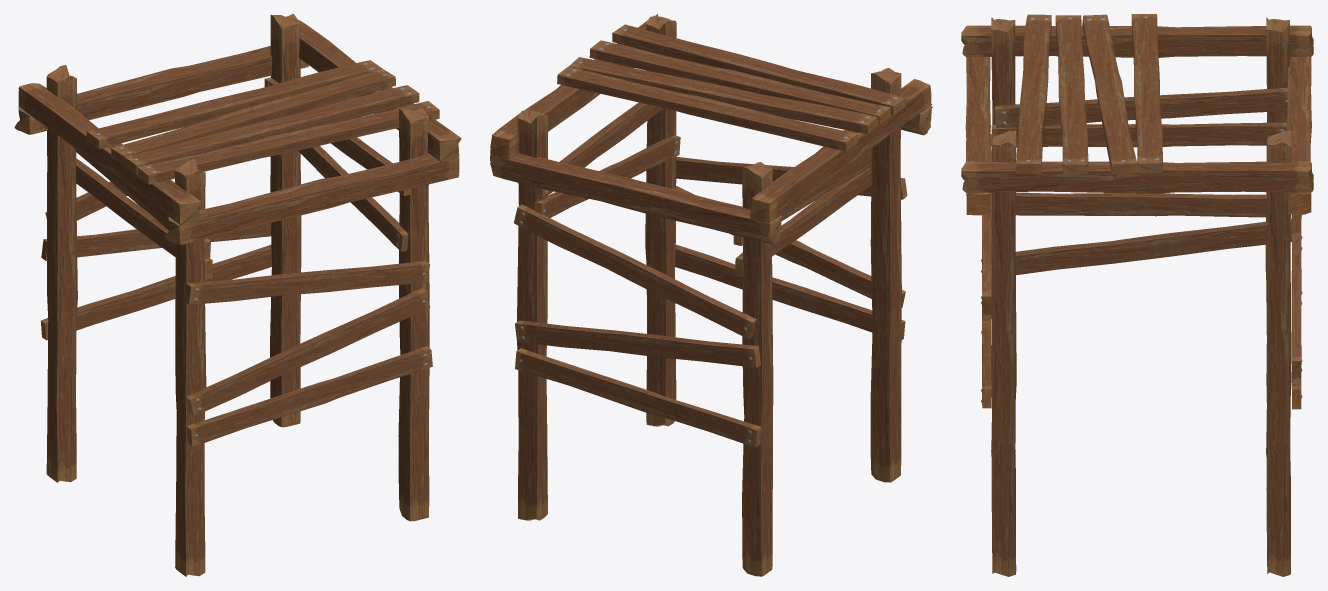
Rendered from SM_Farm_Scaffold_01.fbx.
3 views of the same model, side by side, from view 1: azimuth 30°, elevation 25°; view 2: azimuth 150°, elevation 25°; view 3: azimuth 270°, elevation 25° (orthographic). The views are drawn at different scales.
Visible parts, largest first — view 1: SM_Farm_Scaffold_01_LOD0; view 2: SM_Farm_Scaffold_01_LOD0; view 3: SM_Farm_Scaffold_01_LOD0.
Part boxes in pixels (x1,y1,x2,y2): SM_Farm_Scaffold_01_LOD0: (14,14,461,576); SM_Farm_Scaffold_01_LOD0: (490,14,932,576); SM_Farm_Scaffold_01_LOD0: (961,14,1313,576).
Bounding box in the file's own units: 355 × 478 × 350.
